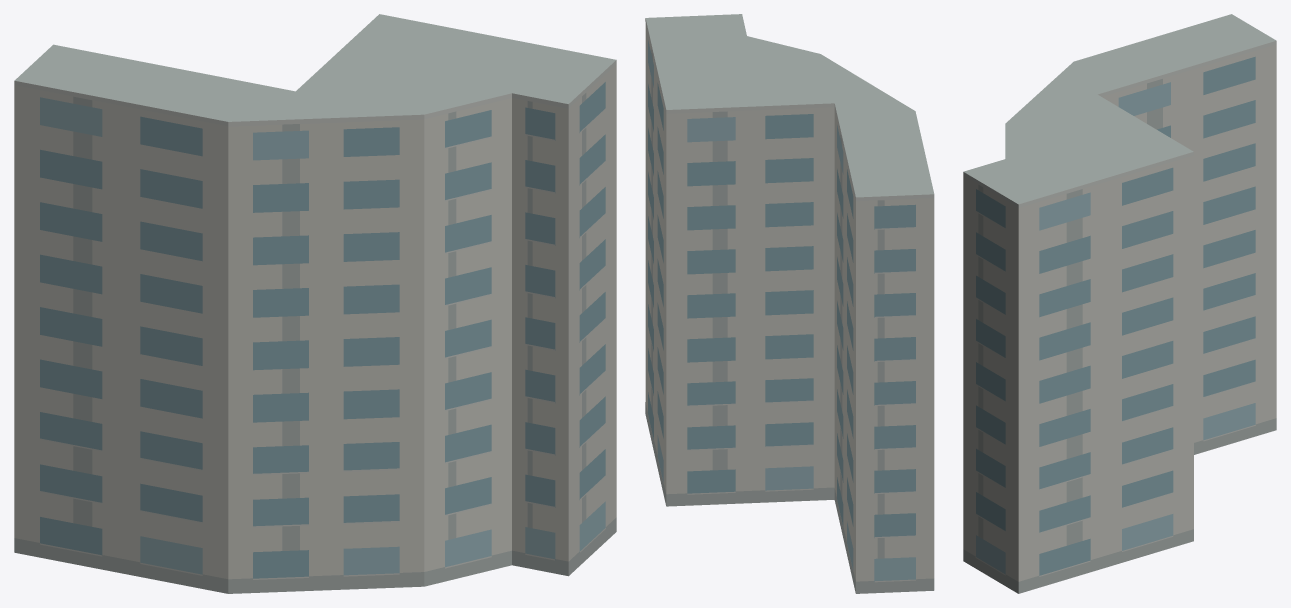
Rendered from residential-4511aade-8379-45c8-9554-b60041c32db7.glb.
The picture shows the model from 3 angles, left to right: view 1: azimuth 30°, elevation 25°; view 2: azimuth 150°, elevation 25°; view 3: azimuth 270°, elevation 25°; orthographic projection. The views are drawn at different scales.
Visible parts, largest first — view 1: residential-4511aade-8379-45c8-9554-b60041c32db7.tmp; view 2: residential-4511aade-8379-45c8-9554-b60041c32db7.tmp; view 3: residential-4511aade-8379-45c8-9554-b60041c32db7.tmp.
Boxes of the visible parts, box(x1,y1,x2,y2) form: residential-4511aade-8379-45c8-9554-b60041c32db7.tmp: box(14, 14, 616, 593); residential-4511aade-8379-45c8-9554-b60041c32db7.tmp: box(645, 14, 934, 593); residential-4511aade-8379-45c8-9554-b60041c32db7.tmp: box(963, 14, 1276, 593).
Bounding box in the file's own units: 26.23 × 25 × 18.24.
